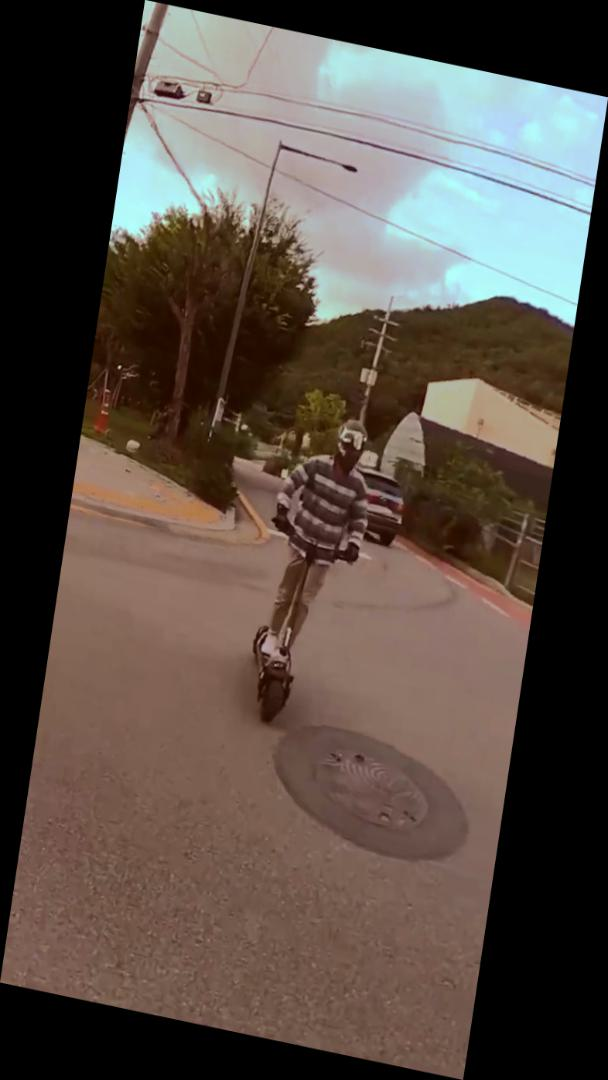helmet: (237, 404, 383, 741)
